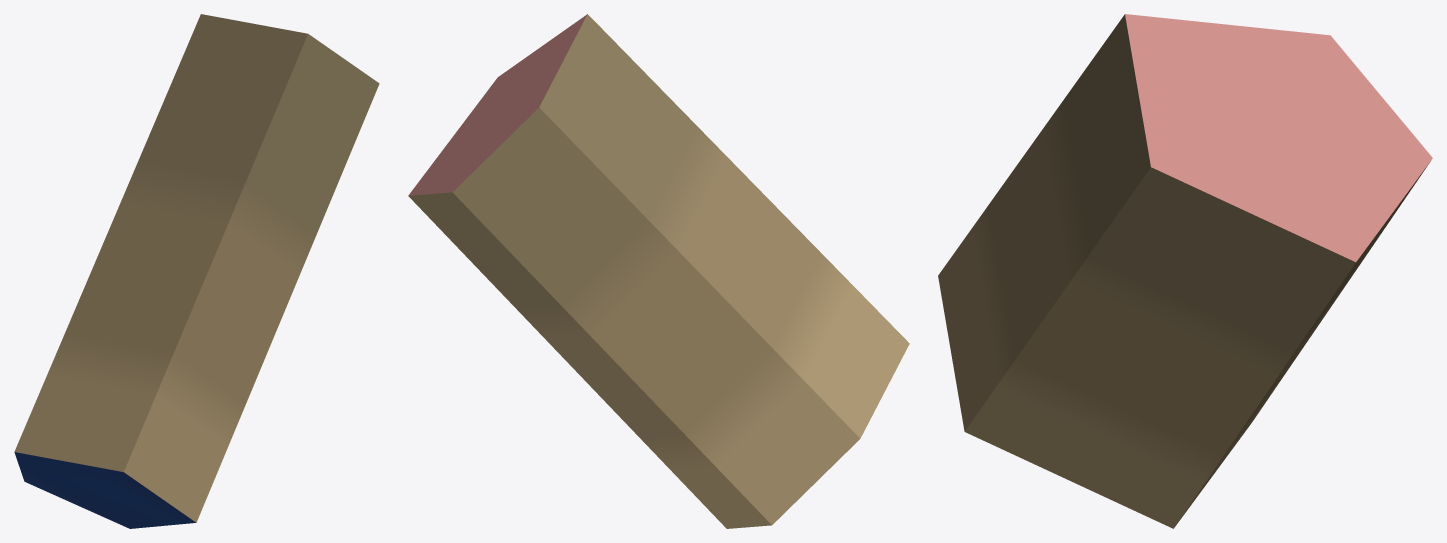
File: 0643_Comoros.glb
The picture shows the model from 3 angles, left to right: view 1: azimuth 30°, elevation 25°; view 2: azimuth 150°, elevation 25°; view 3: azimuth 270°, elevation 25°; orthographic projection. The views are drawn at different scales.
Visible parts, largest first — view 1: part_0; view 2: part_0; view 3: part_0.
Part boxes in pixels (x1,y1,x2,y2): part_0: (14,14,379,528); part_0: (408,14,909,528); part_0: (938,14,1432,528).
Bounding box in the file's own units: 0.1807 × 0.2138 × 0.1554.
Materials: 1 (1 with a texture image).
